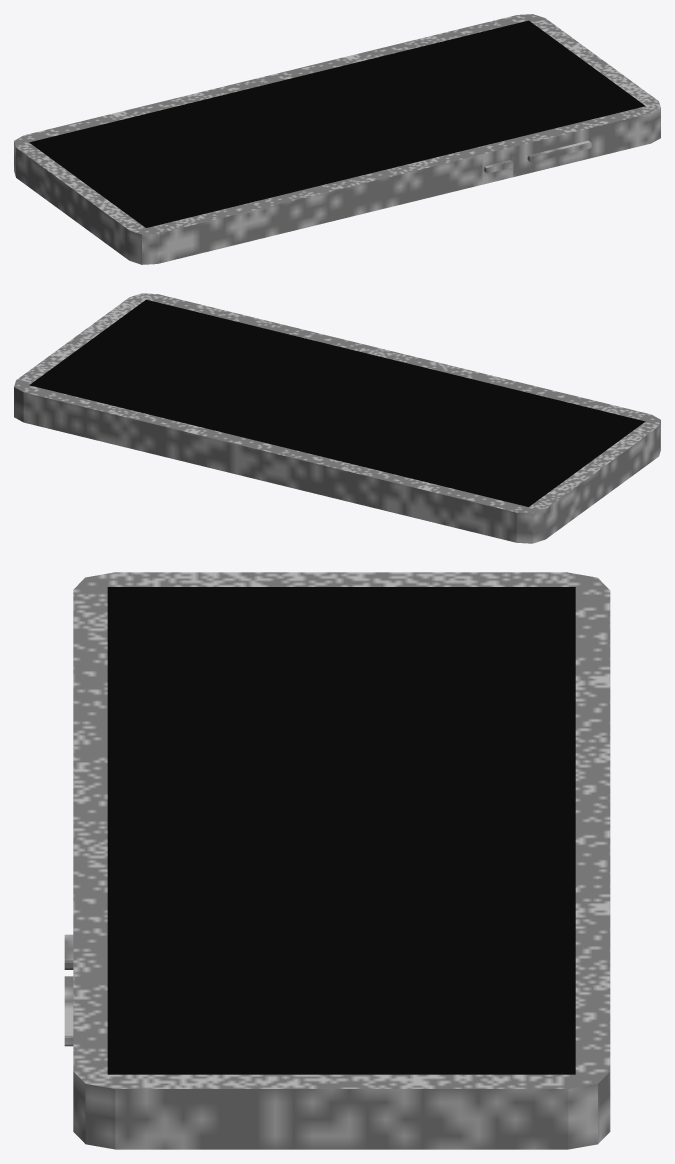
The model's file is phonefrommaya.fbx.
3 views of the same model, one above another, from view 1: azimuth 30°, elevation 25°; view 2: azimuth 150°, elevation 25°; view 3: azimuth 270°, elevation 25° (orthographic). The views are drawn at different scales.
Visible parts, largest first — view 1: phone; view 2: phone; view 3: phone.
Boxes of the visible parts, x1=… form: phone: x1=14, y1=14, x2=660, y2=264; phone: x1=14, y1=293, x2=660, y2=543; phone: x1=64, y1=572, x2=610, y2=1149.
Size of the model in its own units: 364 by 19.85 by 162.
